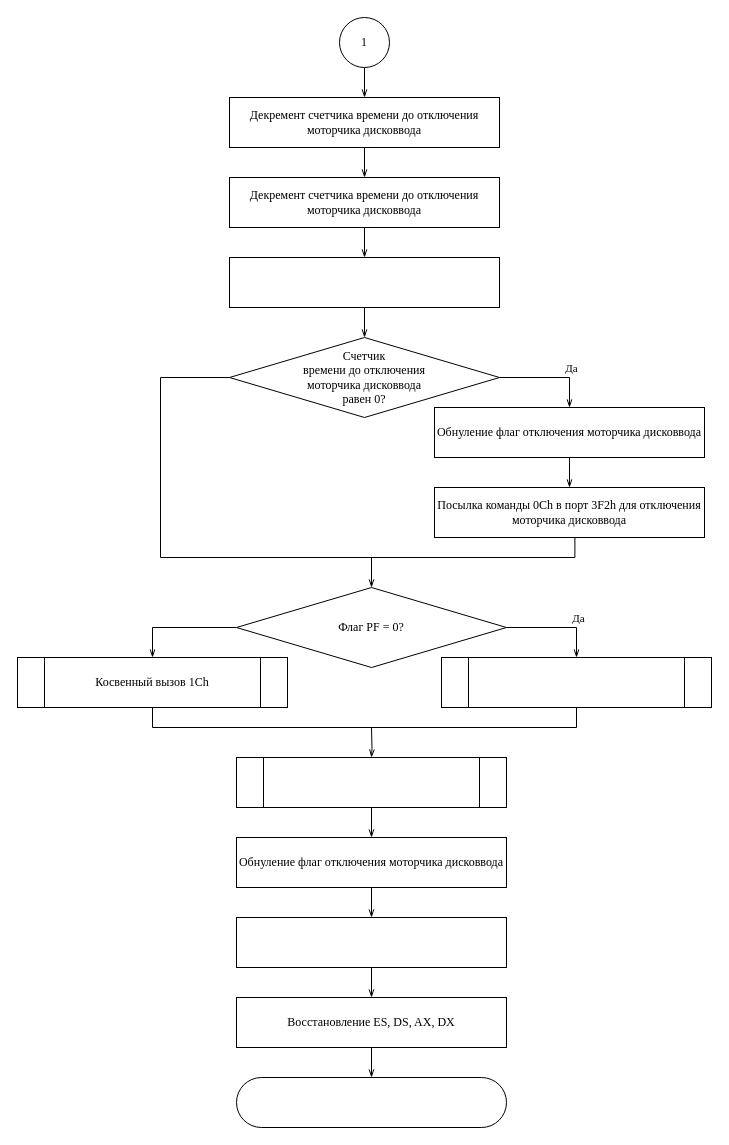
The diagram is 729 pixels wide and 1145 high, and some of its shapes have lost their labels. The centre of each missing label's shape, as x and y in pixels:
"Вызов 1Ch" goes at [576,682].
"Вызов sub_9" goes at [371,782].
"Загрузка младшего байта" goes at [364,282].
"Конец" goes at [371,1102].
"Сброс контроллера прерываний: Запись команды 20h в порт 20h" goes at [371,942].
